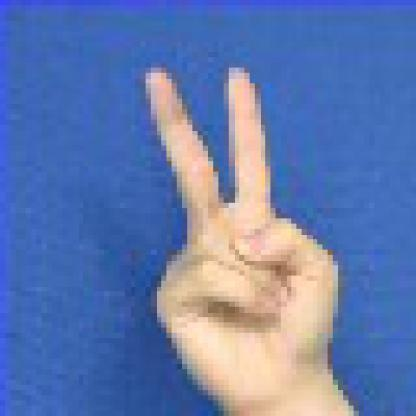two: (139, 59, 348, 415)
